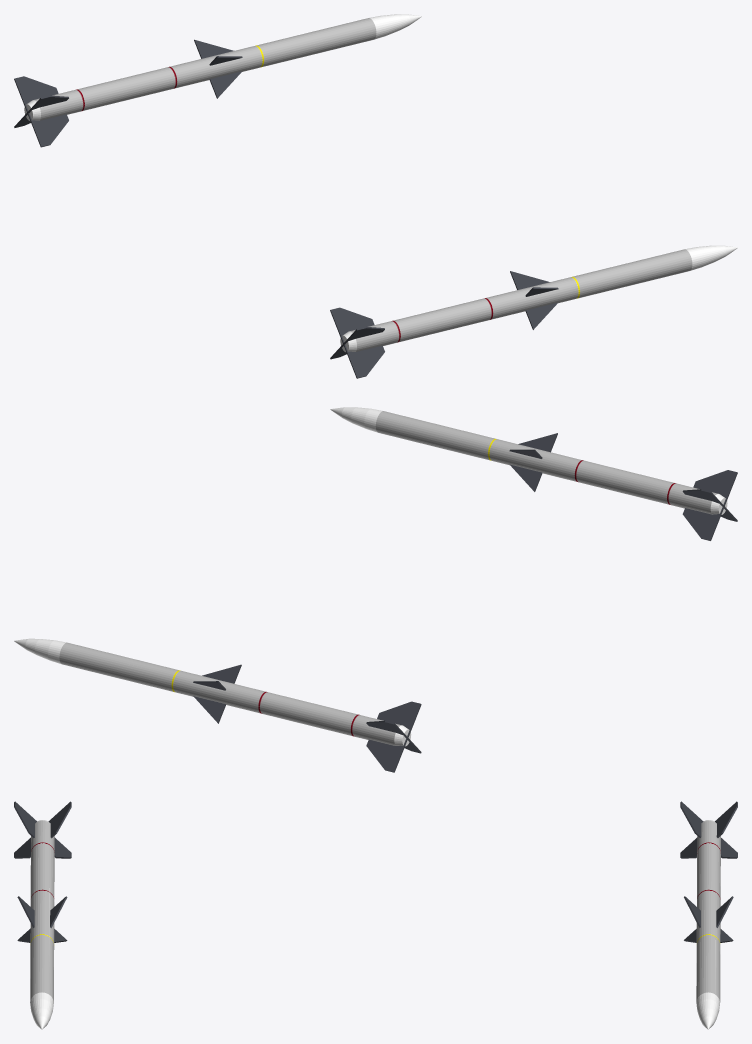
File: f15eaim12014.glb
3 renders of one model, top to bottom at view 1: azimuth 30°, elevation 25°; view 2: azimuth 150°, elevation 25°; view 3: azimuth 270°, elevation 25°, orthographic. The views are drawn at different scales.
Visible parts, largest first — view 1: 円柱.003, 円柱.006; view 2: 円柱.006, 円柱.003; view 3: 円柱.006, 円柱.003.
Part boxes in pixels (x1,y1,x2,y2): 円柱.003: [330, 245, 737, 378]; 円柱.006: [14, 14, 421, 147]; 円柱.006: [14, 638, 421, 772]; 円柱.003: [330, 407, 737, 540]; 円柱.006: [680, 801, 737, 1029]; 円柱.003: [14, 801, 71, 1029].
Bounding box in the file's own units: 4.39 × 0.5295 × 6.62.
4 materials, 4 textured.
